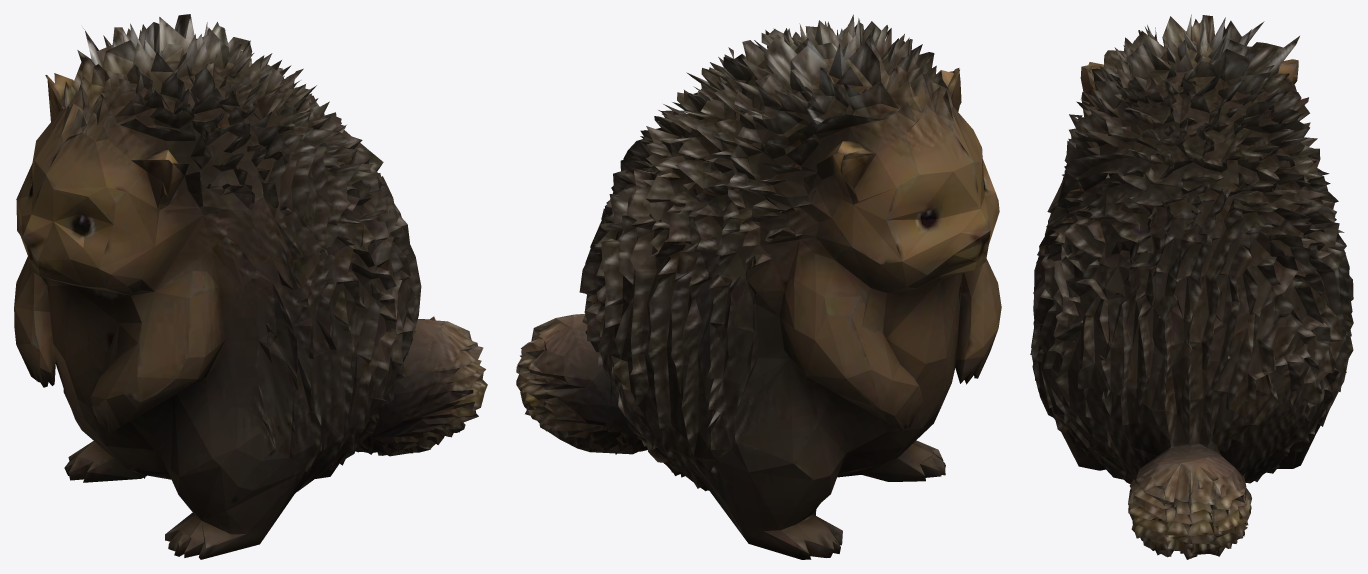
The model's file is porcupine.glb.
The picture shows the model from 3 angles, left to right: view 1: azimuth 30°, elevation 25°; view 2: azimuth 150°, elevation 25°; view 3: azimuth 270°, elevation 25°; orthographic projection. The views are drawn at different scales.
Visible parts, largest first — view 1: geometry_0; view 2: geometry_0; view 3: geometry_0.
Part boxes in pixels (x1,y1,x2,y2): geometry_0: (14, 14, 487, 559); geometry_0: (516, 14, 1001, 559); geometry_0: (1030, 14, 1353, 559).
Size of the model in its own units: 0.9988 by 0.9957 by 0.6812.
1 material, 1 textured.
